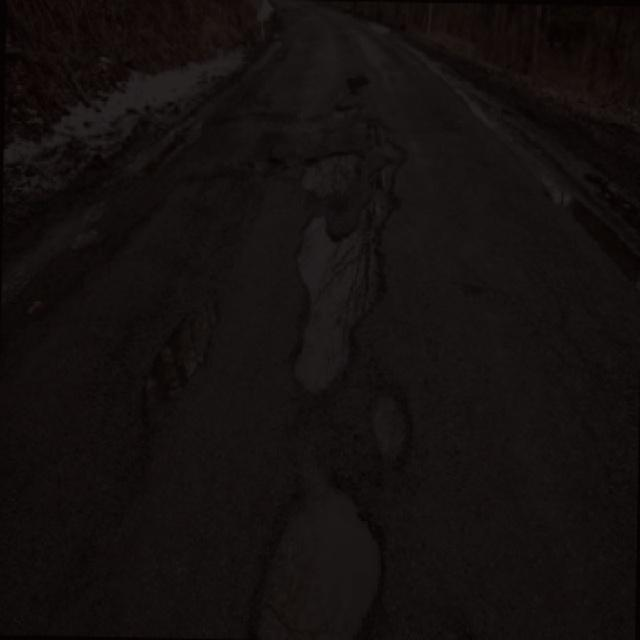Pothole: (290, 80, 410, 405), (238, 467, 391, 640), (131, 281, 241, 433), (365, 382, 419, 468), (246, 136, 286, 189)
